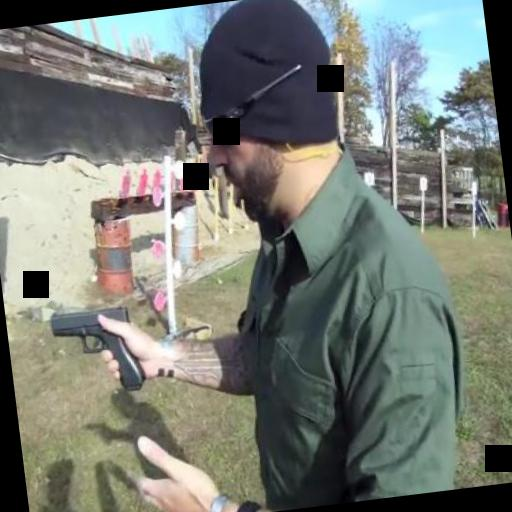Handgun: (46, 299, 148, 399)
